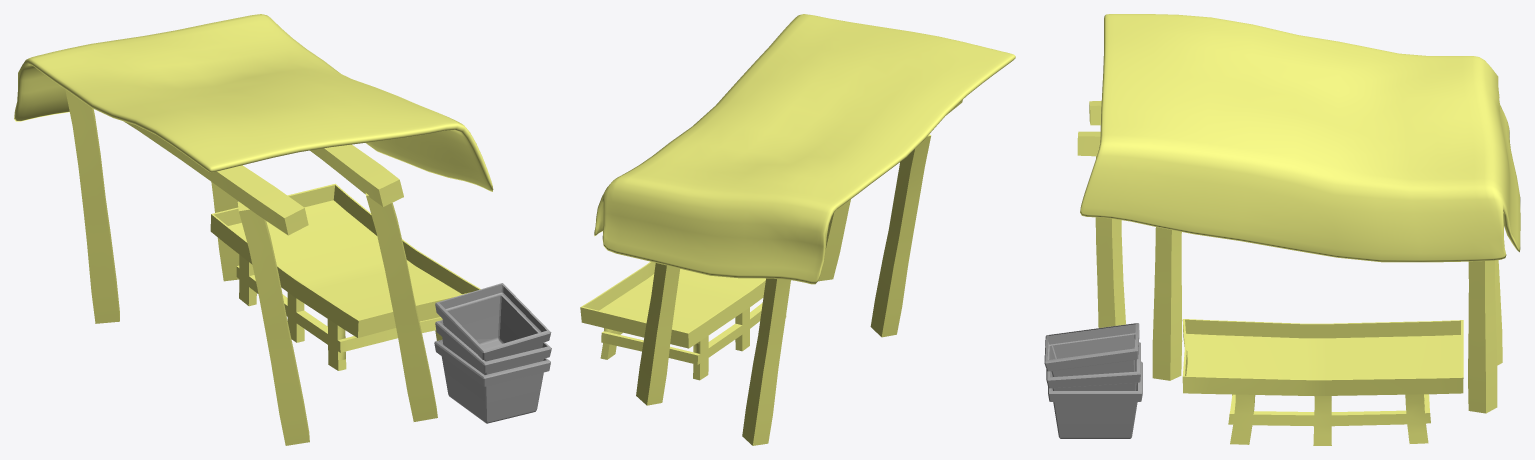
File: stall.fbx
3 renders of one model, left to right at view 1: azimuth 30°, elevation 25°; view 2: azimuth 150°, elevation 25°; view 3: azimuth 270°, elevation 25°, orthographic. The views are drawn at different scales.
Parts seen in each view (by area): view 1: pCube452, pCube464, pCube458, pCube457, pCube469, pCube455, pCube467, pCube466, pCube465, pCube468, pCube456; view 2: pCube452, pCube464, pCube458, pCube457, pCube456, pCube455; view 3: pCube452, pCube464, pCube456, pCube469, pCube458, pCube467, pCube455, pCube468, pCube457, pCube465.
Boxes of the visible parts, <box> form: pCube452: <box>14,14,493,191</box>; pCube464: <box>210,183,480,370</box>; pCube458: <box>237,202,309,445</box>; pCube457: <box>65,89,119,323</box>; pCube469: <box>435,283,551,361</box>; pCube455: <box>365,193,437,421</box>; pCube467: <box>434,339,550,423</box>; pCube466: <box>124,121,308,235</box>; pCube465: <box>310,144,403,206</box>; pCube468: <box>435,320,551,374</box>; pCube456: <box>211,182,239,281</box>; pCube452: <box>594,14,1015,284</box>; pCube464: <box>580,261,786,380</box>; pCube458: <box>870,134,930,337</box>; pCube457: <box>742,278,790,445</box>; pCube456: <box>636,263,679,405</box>; pCube455: <box>818,199,850,281</box>; pCube452: <box>1080,14,1520,262</box>; pCube464: <box>1182,319,1463,445</box>; pCube456: <box>1468,260,1497,413</box>; pCube469: <box>1044,323,1139,376</box>; pCube458: <box>1152,227,1182,380</box>; pCube467: <box>1048,361,1142,438</box>; pCube455: <box>1095,156,1125,327</box>; pCube468: <box>1046,342,1140,390</box>; pCube457: <box>1495,260,1502,365</box>; pCube465: <box>1077,131,1100,156</box>.
Bounding box in the file's own units: 388 × 385 × 534.
